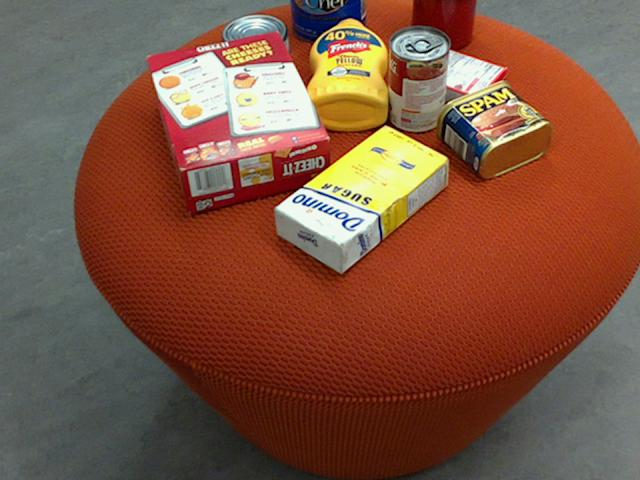cracker_box: (144, 29, 330, 209)
gelatin_box: (415, 49, 507, 114)
large_marker: (427, 0, 450, 43)
master_chef_can: (289, 0, 365, 42)
mug: (409, 0, 476, 50)
mustard_bottle: (303, 18, 386, 130)
potted_meat_can: (434, 80, 549, 178)
sugar_box: (273, 124, 448, 274)
tomato_soup_can: (387, 25, 449, 131)
tuna_fish_can: (219, 14, 287, 69)
